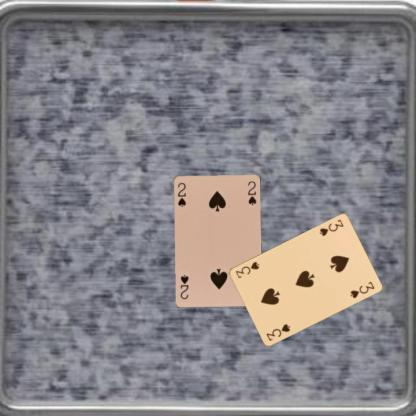2s: (175, 180, 187, 208)
3s: (316, 216, 346, 237), (264, 321, 292, 343)
